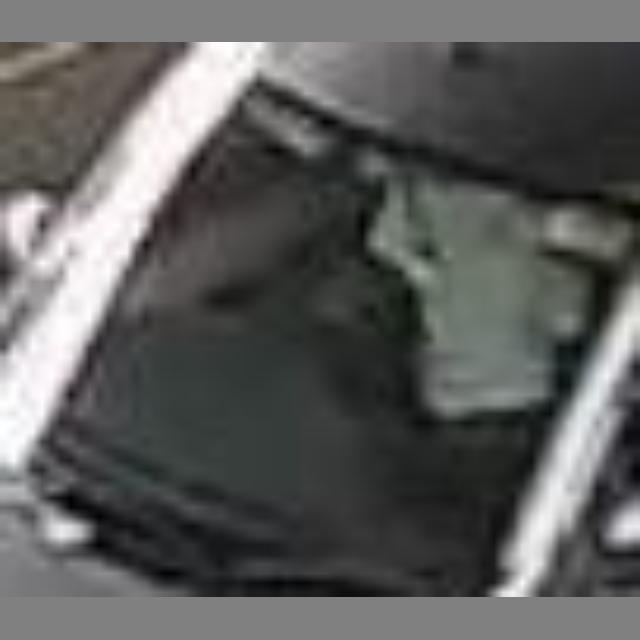tidak-pakai: (273, 155, 555, 437)
